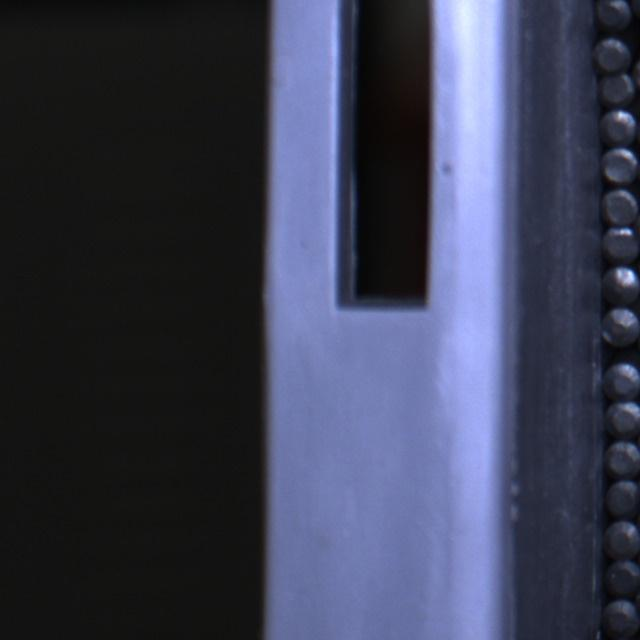tool: (603, 305, 640, 345), (604, 599, 640, 640), (604, 264, 640, 304), (604, 520, 640, 558), (602, 189, 638, 227), (605, 362, 640, 401), (602, 146, 639, 182), (602, 107, 638, 144), (594, 38, 631, 74), (602, 226, 638, 263), (605, 400, 640, 437), (606, 478, 640, 516), (606, 440, 640, 478), (606, 558, 640, 594), (600, 70, 636, 104), (594, 0, 632, 30)
